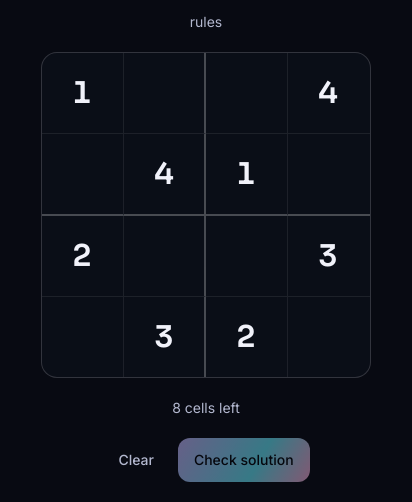
Test case: LogicGridEngine › marks conflicting cells without relying on colour alone
In the field named "Row 1, column 2": (164, 93) left=124, top=53, right=204, bottom=133, type "1"
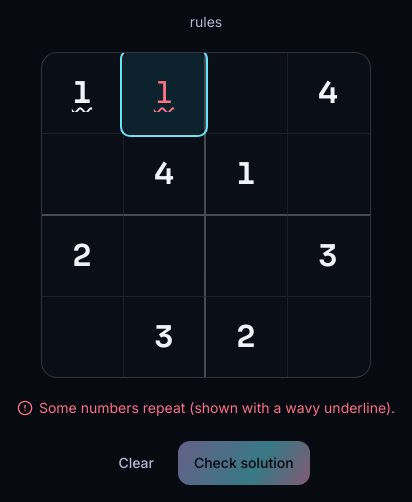
Check: the text "Some numbers repeat (shown with a wavy underline)." is shown, box left=17, top=398, right=395, bottom=418
